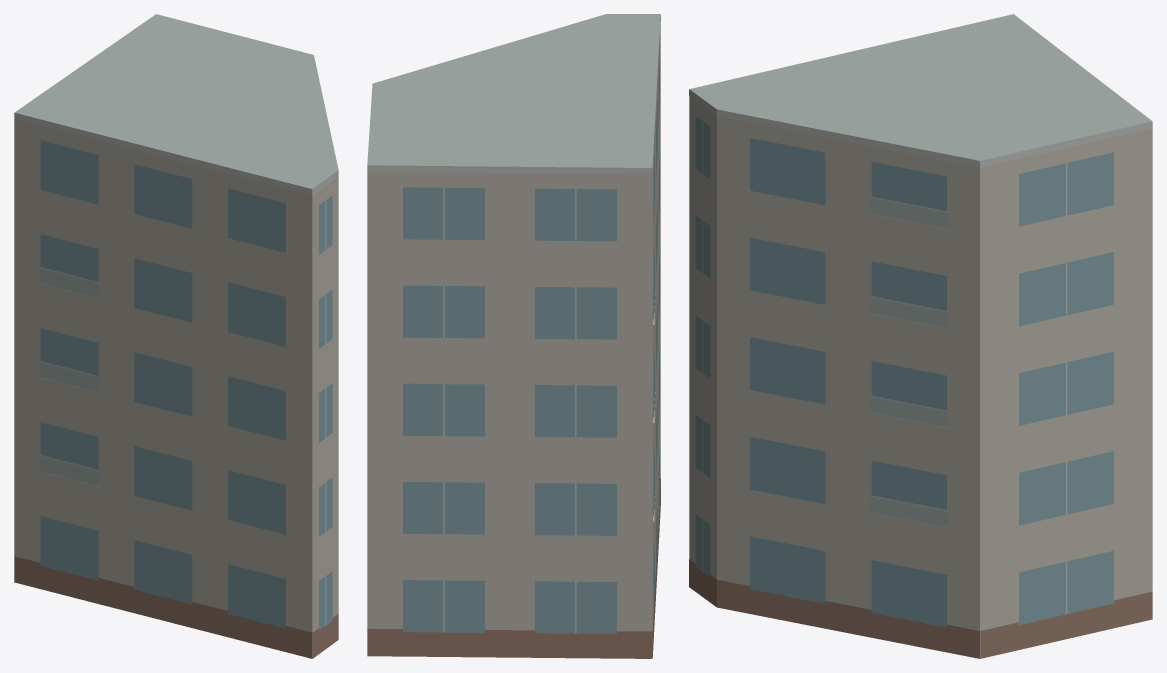
The model's file is survey-upis-32698287.glb.
3 views of the same model, side by side, from view 1: azimuth 30°, elevation 25°; view 2: azimuth 150°, elevation 25°; view 3: azimuth 270°, elevation 25° (orthographic). The views are drawn at different scales.
Visible parts, largest first — view 1: survey-upis-32698287.tmp; view 2: survey-upis-32698287.tmp; view 3: survey-upis-32698287.tmp.
Boxes of the visible parts, x1=… form: survey-upis-32698287.tmp: x1=14, y1=14, x2=338, y2=658; survey-upis-32698287.tmp: x1=367, y1=14, x2=660, y2=658; survey-upis-32698287.tmp: x1=689, y1=14, x2=1152, y2=658.
Size of the model in its own units: 11.27 by 17.8 by 15.02.
